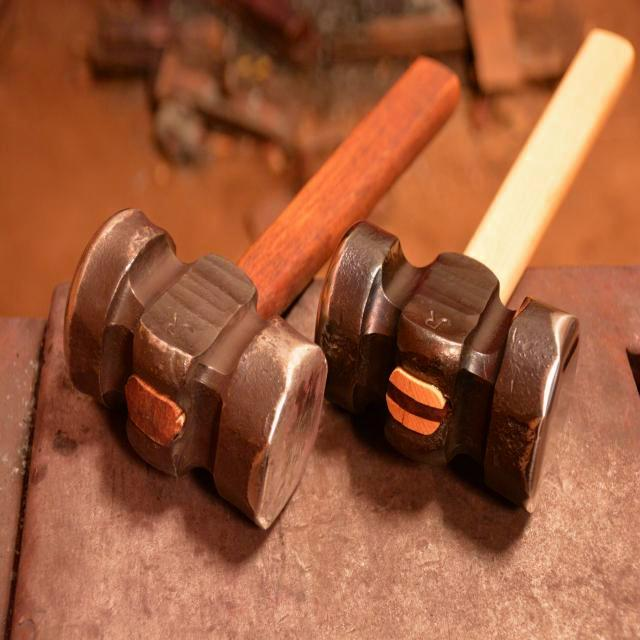hammer: (51, 41, 467, 537), (302, 21, 640, 516)
